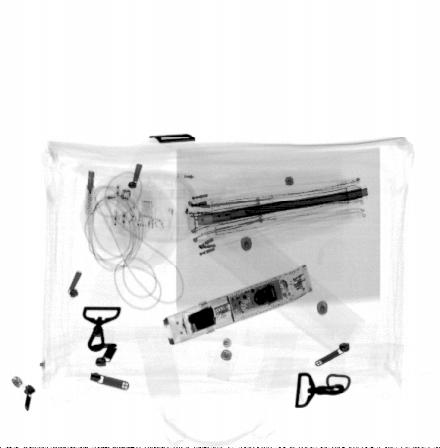Baton: (160, 261, 314, 348)
